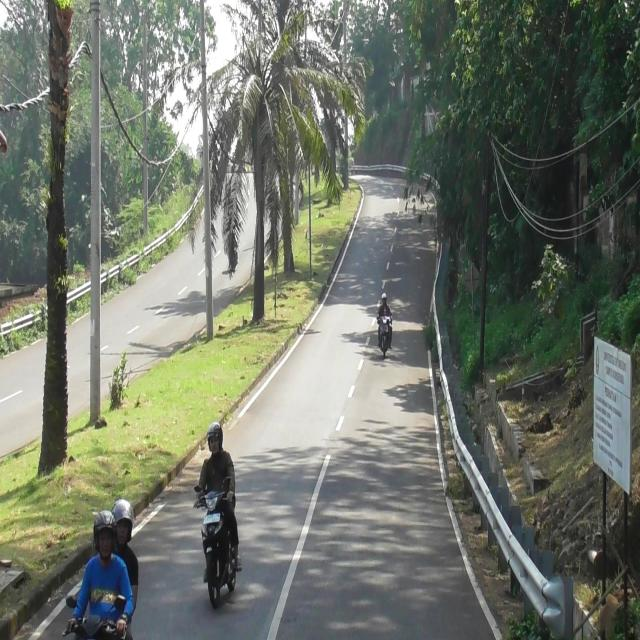motorcycle: (192, 478, 240, 599), (378, 314, 391, 360)
person: (69, 512, 132, 636), (193, 424, 241, 571), (112, 498, 140, 638), (378, 290, 392, 326)
rider_region: (192, 422, 239, 610), (376, 287, 394, 362)
